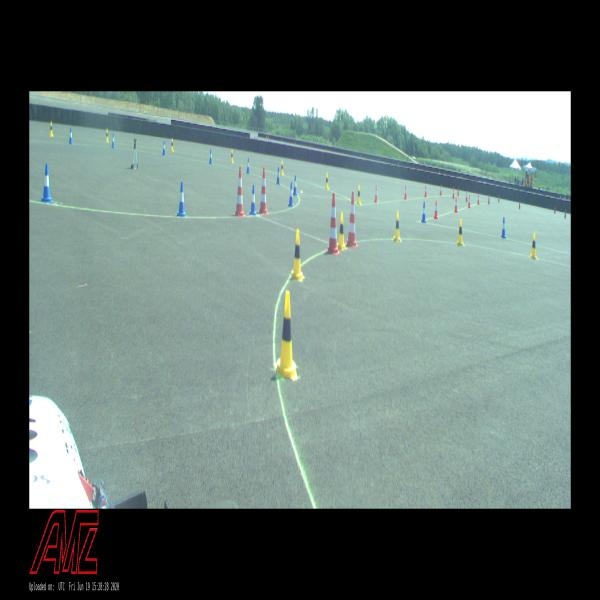blue_cone: (40, 164, 52, 202), (177, 182, 186, 216), (249, 185, 257, 215), (288, 182, 294, 207), (501, 217, 506, 239), (422, 202, 426, 223), (293, 176, 297, 195), (276, 167, 280, 185), (162, 141, 167, 155), (209, 149, 213, 164), (69, 128, 73, 143), (246, 158, 250, 173), (112, 134, 115, 148)
large_orange_cone: (325, 193, 340, 255), (345, 192, 358, 246), (234, 166, 246, 217), (258, 168, 268, 214)
orange_cone: (434, 200, 438, 219), (374, 185, 378, 202), (454, 197, 458, 213), (404, 185, 407, 200), (468, 195, 471, 208), (424, 185, 427, 197), (465, 190, 468, 202), (452, 188, 455, 198), (477, 193, 479, 205), (440, 184, 442, 195)
unknown_cone: (488, 195, 490, 205), (518, 200, 520, 209), (458, 187, 460, 196), (564, 210, 566, 218), (554, 206, 556, 214), (498, 194, 500, 202)
yellow_cone: (276, 291, 297, 378), (290, 230, 304, 281), (337, 213, 346, 249), (393, 212, 401, 242), (457, 219, 464, 246), (530, 233, 537, 259), (356, 185, 361, 204), (325, 173, 329, 190), (280, 160, 284, 176), (50, 121, 53, 136), (231, 149, 234, 163), (171, 138, 174, 151), (106, 129, 109, 142)
